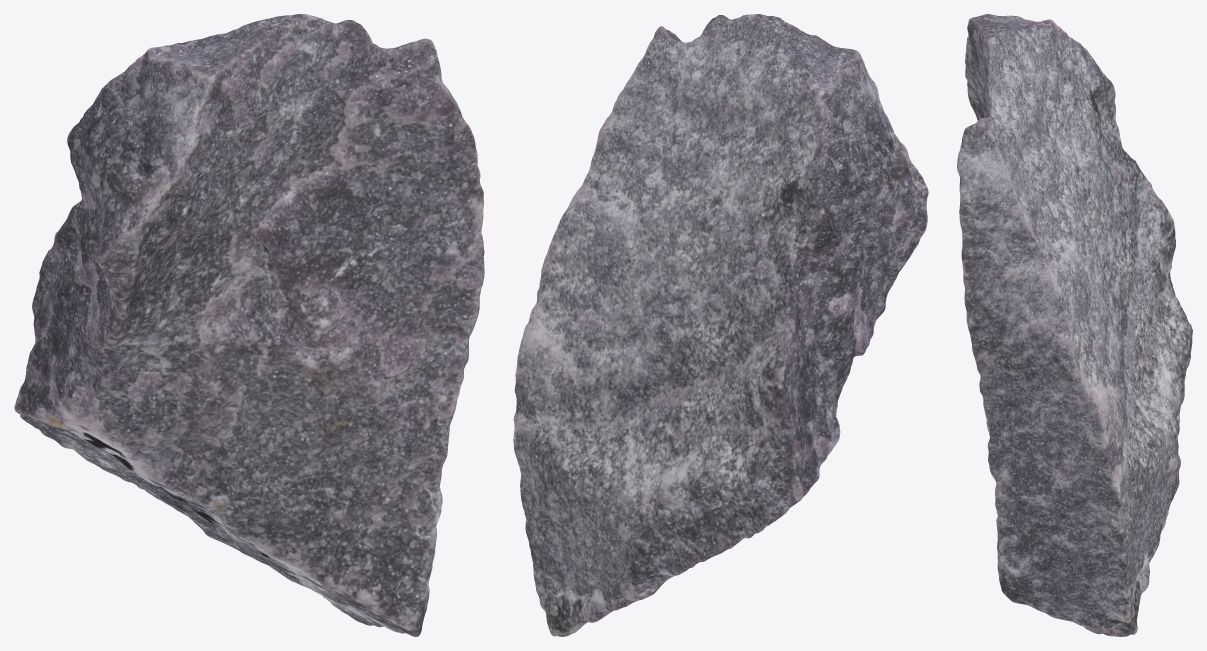
File: lepidolite.glb
3 renders of one model, left to right at view 1: azimuth 30°, elevation 25°; view 2: azimuth 150°, elevation 25°; view 3: azimuth 270°, elevation 25°, orthographic. The views are drawn at different scales.
Visible parts, largest first — view 1: Model_material0_0, Model_material1_0, Model_material2_0; view 2: Model_material2_0, Model_material3_0, Model_material0_0; view 3: Model_material2_0, Model_material1_0, Model_material3_0, Model_material0_0.
Part boxes in pixels (<box>): Model_material0_0: <box>75,19,483,399</box>; Model_material1_0: <box>57,226,484,636</box>; Model_material2_0: <box>14,14,483,473</box>; Model_material2_0: <box>523,14,883,552</box>; Model_material3_0: <box>513,331,721,636</box>; Model_material0_0: <box>662,18,928,416</box>; Model_material2_0: <box>957,14,1192,414</box>; Model_material1_0: <box>964,266,1114,633</box>; Model_material3_0: <box>1082,380,1180,636</box>; Model_material0_0: <box>957,16,990,283</box>.
Bounding box in the file's own units: 0.0549 × 0.0897 × 0.0351.
4 materials, 4 textured.
